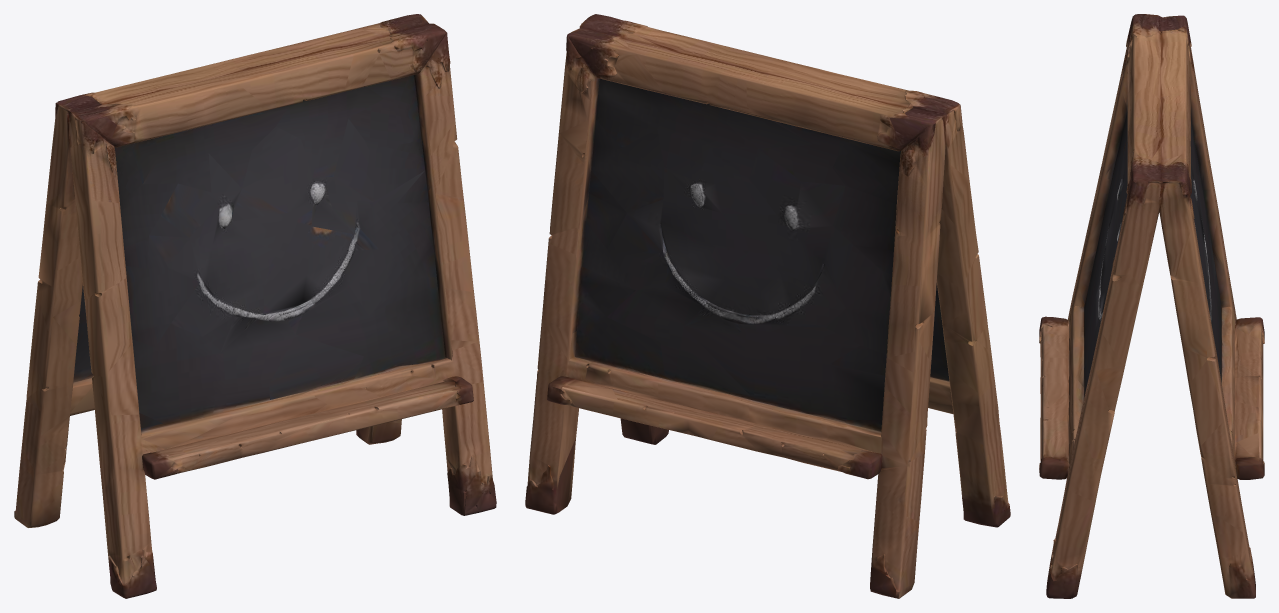
Rendered from decor_chalkboard_easel_idle.glb.
The picture shows the model from 3 angles, left to right: view 1: azimuth 30°, elevation 25°; view 2: azimuth 150°, elevation 25°; view 3: azimuth 270°, elevation 25°; orthographic projection. The views are drawn at different scales.
Parts seen in each view (by area): view 1: tripo_node_2b2be0a7-fa26-4e96-8da5-14a2ea8ecde7; view 2: tripo_node_2b2be0a7-fa26-4e96-8da5-14a2ea8ecde7; view 3: tripo_node_2b2be0a7-fa26-4e96-8da5-14a2ea8ecde7.
Boxes of the visible parts, x1=… form: tripo_node_2b2be0a7-fa26-4e96-8da5-14a2ea8ecde7: x1=14, y1=14, x2=496, y2=598; tripo_node_2b2be0a7-fa26-4e96-8da5-14a2ea8ecde7: x1=525, y1=14, x2=1010, y2=598; tripo_node_2b2be0a7-fa26-4e96-8da5-14a2ea8ecde7: x1=1039, y1=14, x2=1264, y2=598.
Bounding box in the file's own units: 0.9631 × 1.1 × 0.5374.
Materials: 1 (1 with a texture image).
